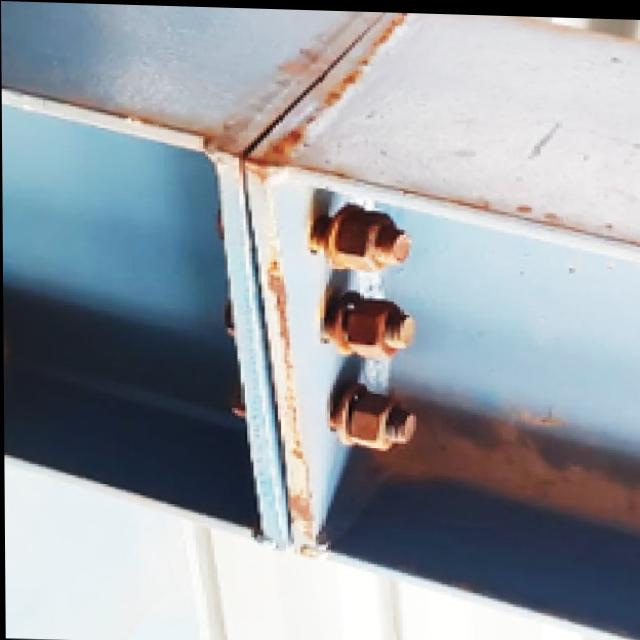Loose bolt: (293, 212, 445, 275), (309, 299, 440, 367)
Rusty bolt: (344, 387, 402, 451), (335, 297, 393, 360), (337, 196, 395, 259)
